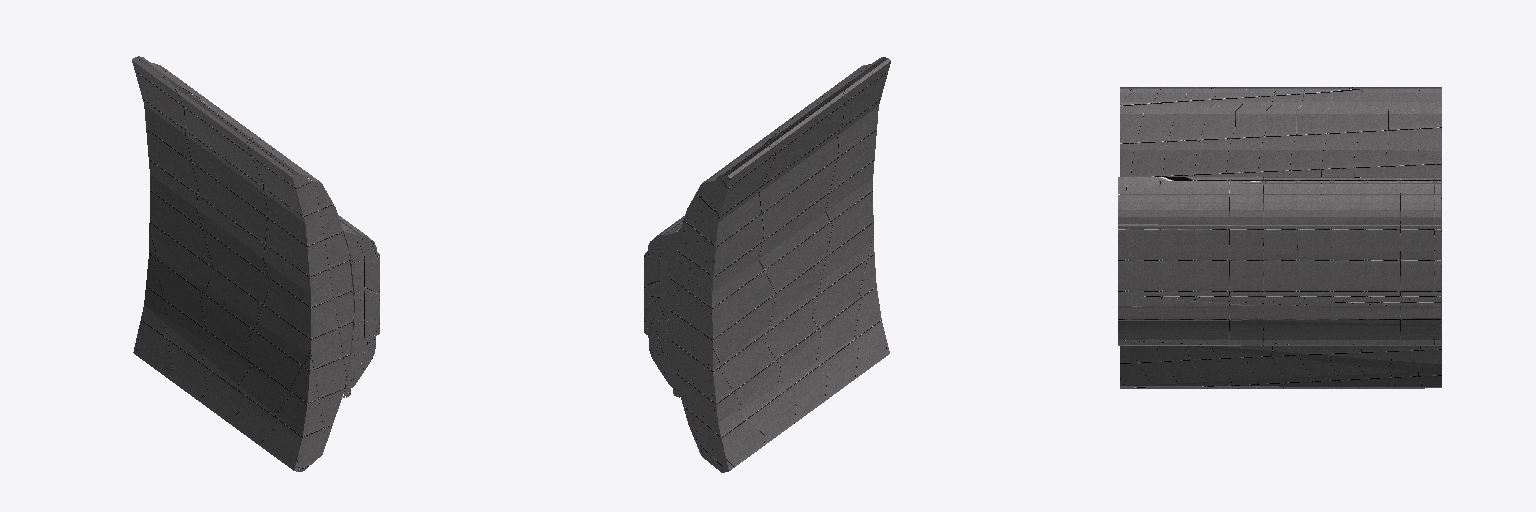
The picture shows the model from 3 angles: view 1: azimuth 30°, elevation 25°; view 2: azimuth 150°, elevation 25°; view 3: azimuth 270°, elevation 25°; orthographic projection.
Visible parts, largest first — view 1: CapsuleLeftWall_3; view 2: CapsuleLeftWall_3; view 3: CapsuleLeftWall_3.
Part boxes in pixels (bbox=[...]): CapsuleLeftWall_3: bbox=[132, 56, 379, 471]; CapsuleLeftWall_3: bbox=[644, 57, 890, 472]; CapsuleLeftWall_3: bbox=[1118, 87, 1441, 388].
Size of the model in its own units: 2.92 by 9.63 by 9.46.
1 materials, 1 textured.